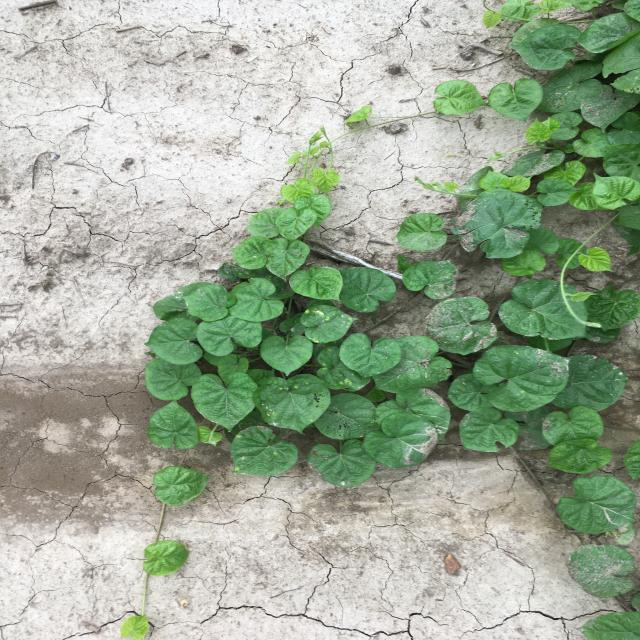MorningGlory: (120, 1, 639, 639)
